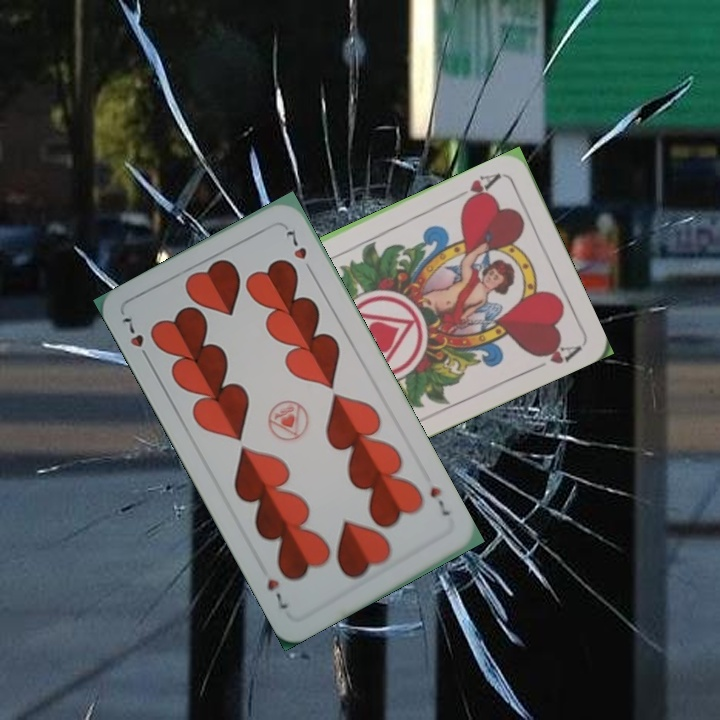H7: (118, 313, 154, 365), (425, 483, 453, 519)
HA: (458, 169, 504, 209)
